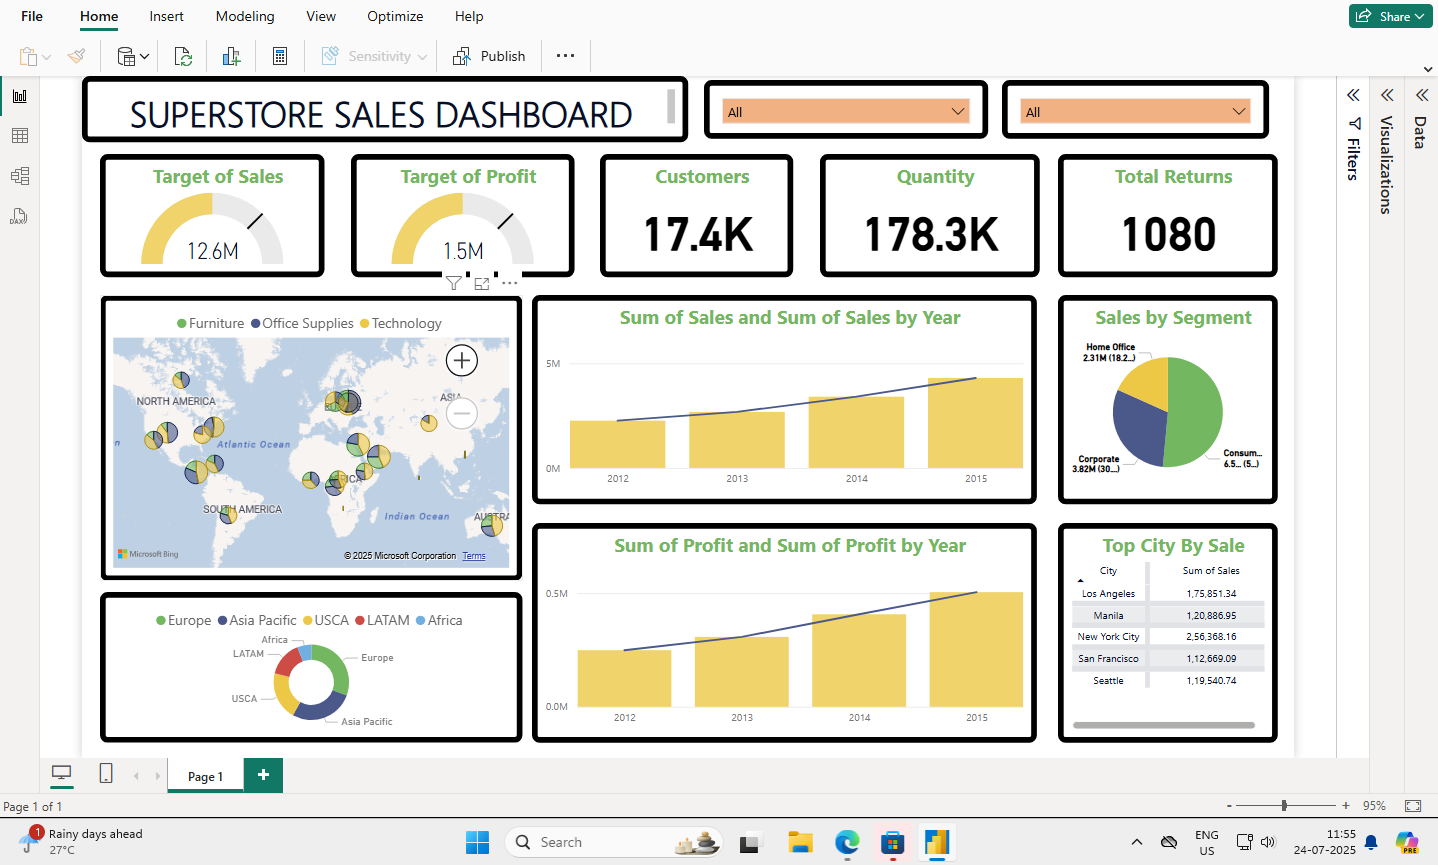

The page's visual inventory and layout, read from the dashboard file:
{"tool":"powerbi","page":{"name":"Page 1","canvas":[1280,720],"ordinal":0},"visuals":[{"type":"textbox","box":[0,0,640,70.1],"z":0},{"type":"gauge","title":"Target of Sales","fields":{"Y":["Sum(Orders.Sales)"],"TargetValue":["Orders.Target_Sales"]},"box":[19.1,82.9,237.1,130],"z":1000},{"type":"card","title":"Customers","fields":{"Values":["Count(Orders.Customer ID)"]},"box":[546.9,82.9,204,130],"z":2000},{"type":"card","title":"Quantity","fields":{"Values":["Sum(Orders.Quantity)"]},"box":[779,82.9,232,130],"z":3000},{"type":"slicer","fields":{"Values":["Orders.Region"]},"box":[656.6,3.8,299.6,62.5],"z":4000},{"type":"slicer","fields":{"Values":["Orders.Order Date.Variation.Date Hierarchy.Year"]},"box":[971.5,3.8,281.8,62.5],"z":5000},{"type":"gauge","title":"Target of Profit","fields":{"Y":["Sum(Orders.Profit)"],"TargetValue":["Orders.Target_profit"]},"box":[284.3,82.9,235.9,130],"z":6000},{"type":"map","fields":{"Category":["Orders.Region"],"Size":["Sum(Orders.Profit)"],"Series":["Orders.Category"]},"box":[19.1,230.8,446.2,302.2],"z":7000},{"type":"lineClusteredColumnComboChart","fields":{"Y":["Sum(Orders.Sales)"],"Category":["Orders.Order Date.Variation.Date Hierarchy.Year"],"Y2":["Sum(Orders.Sales)"]},"box":[475.5,230.8,532.9,220.6],"z":8000},{"type":"lineClusteredColumnComboChart","fields":{"Category":["Orders.Order Date.Variation.Date Hierarchy.Year"],"Y":["Sum(Orders.Profit)"],"Y2":["Sum(Orders.Profit)"]},"box":[475.5,471.7,532.9,232],"z":9000},{"type":"donutChart","fields":{"Category":["Orders.Market"],"Y":["Sum(Orders.Profit)"]},"box":[19.1,544.4,446.2,159.4],"z":10000},{"type":"card","title":"Total Returns","fields":{"Values":["CountNonNull(Returns.Return)"]},"box":[1030.1,82.9,232,130],"z":11000},{"type":"pieChart","title":"Sales by Segment","fields":{"Category":["Orders.Segment"],"Y":["Sum(Orders.Sales)"]},"box":[1030.1,230.8,232,220.6],"z":12000},{"type":"tableEx","title":"Top City By Sale","fields":{"Values":["Orders.City","Sum(Orders.Sales)"]},"box":[1030.1,471.7,232,232],"z":13000}]}

Visuals, with their boxes on the page's 1280x720 design canvas (x1, y1, x2, y2). These are canvas units, not pixel positions in the 1438x865 screenshot, which may show the page scaled, cropped or inside an application window:
textbox: (left=0, top=0, right=640, bottom=70)
"Target of Sales" gauge: (left=19, top=83, right=256, bottom=213)
"Customers" card: (left=547, top=83, right=751, bottom=213)
"Quantity" card: (left=779, top=83, right=1011, bottom=213)
slicer - Orders.Region: (left=657, top=4, right=956, bottom=66)
slicer - Orders.Order Date.Variation.Date Hierarchy.Year: (left=972, top=4, right=1253, bottom=66)
"Target of Profit" gauge: (left=284, top=83, right=520, bottom=213)
map - Orders.Region x Sum(Orders.Profit): (left=19, top=231, right=465, bottom=533)
lineClusteredColumnComboChart - Sum(Orders.Sales) x Orders.Order Date.Variation.Date Hierarchy.Year: (left=476, top=231, right=1008, bottom=451)
lineClusteredColumnComboChart - Orders.Order Date.Variation.Date Hierarchy.Year x Sum(Orders.Profit): (left=476, top=472, right=1008, bottom=704)
donutChart - Orders.Market x Sum(Orders.Profit): (left=19, top=544, right=465, bottom=704)
"Total Returns" card: (left=1030, top=83, right=1262, bottom=213)
"Sales by Segment" pieChart: (left=1030, top=231, right=1262, bottom=451)
"Top City By Sale" tableEx: (left=1030, top=472, right=1262, bottom=704)
